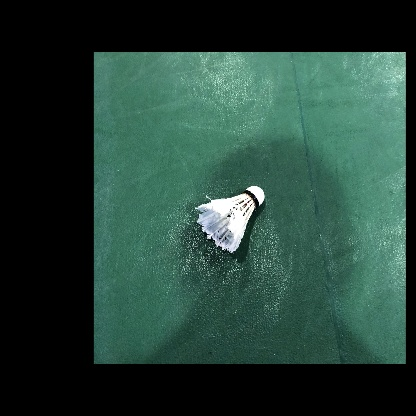ball_single: (195, 186, 264, 253)
